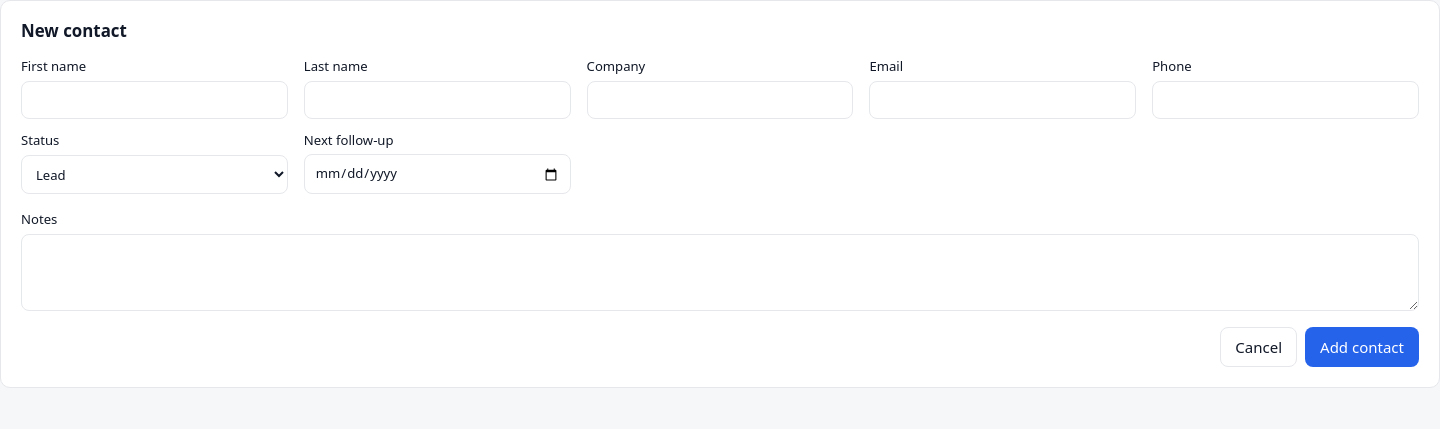
Test: ContactForm › shows validation errors and does not submit invalid data
Step 1. Type "wrong" into the field labelled "Email" → (1003, 100), box [869,81,1136,119]
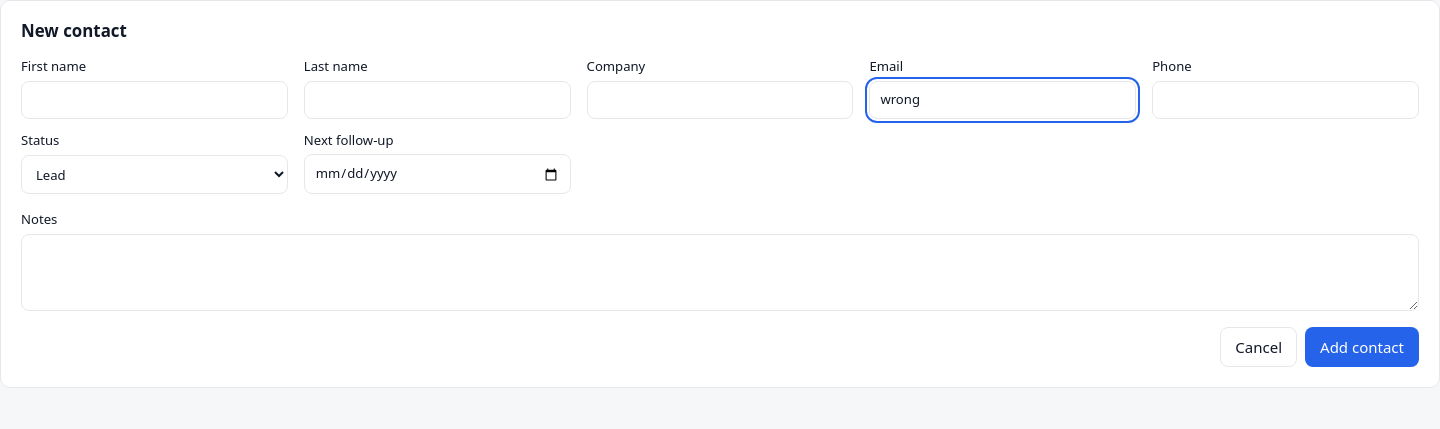
Step 2. Click the button "Add contact" → (1362, 347), box [1305,327,1419,367]
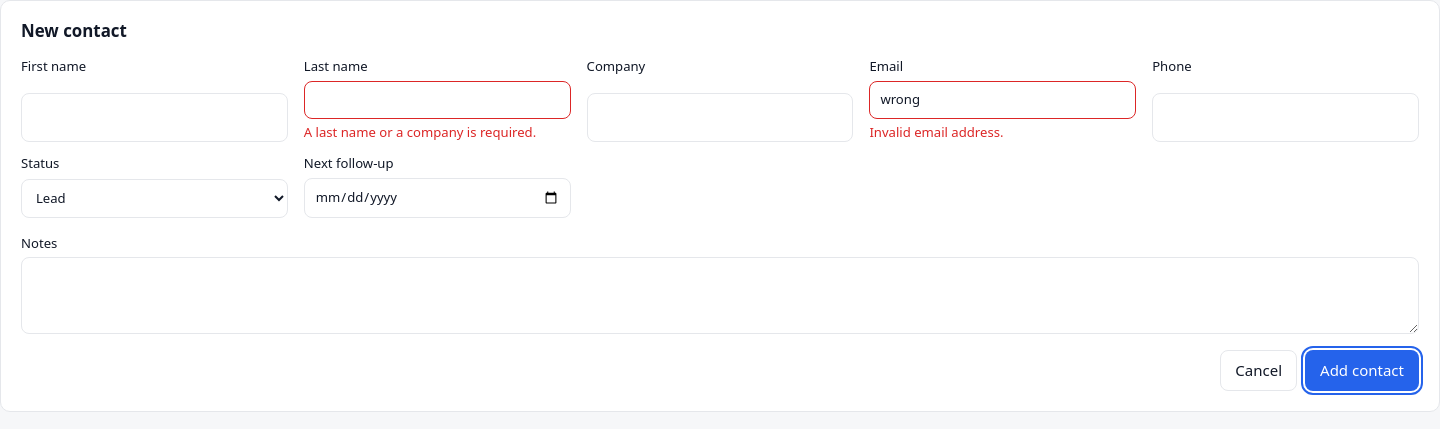
Expected: the text "A last name or a company is required." is shown, [304,123,571,142]
Expected: the text "Invalid email address." is shown, [869,123,1004,141]
